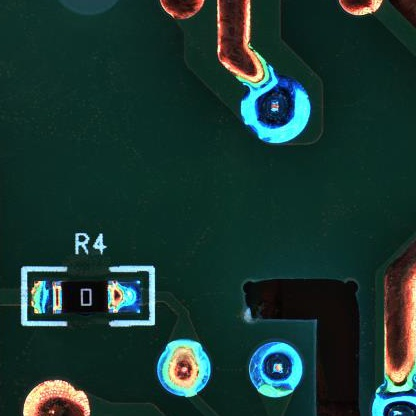spot: (239, 76, 311, 145), (248, 341, 304, 398), (158, 339, 210, 399)
